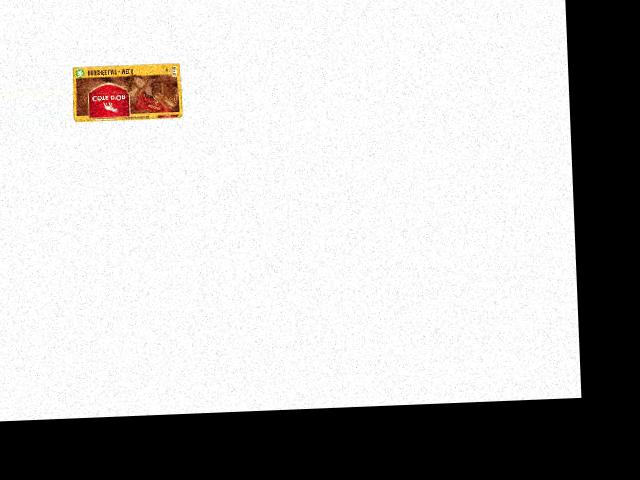chocolate: (71, 53, 185, 124)
